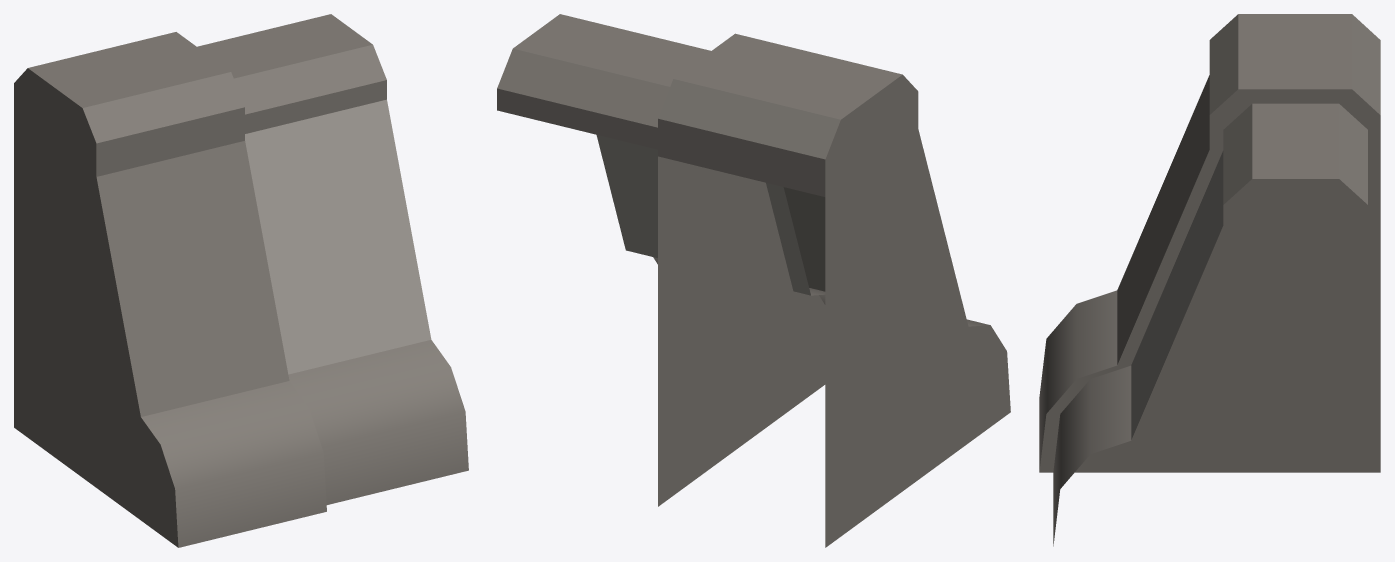
File: Base Wall 01 End 02.FBX
The picture shows the model from 3 angles, left to right: view 1: azimuth 30°, elevation 25°; view 2: azimuth 150°, elevation 25°; view 3: azimuth 270°, elevation 25°; orthographic projection. The views are drawn at different scales.
Parts seen in each view (by area): view 1: Base Wall 01 End 02; view 2: Base Wall 01 End 02; view 3: Base Wall 01 End 02.
Part boxes in pixels (box(x1,y1,x2,y2)): Base Wall 01 End 02: box(14, 14, 468, 547); Base Wall 01 End 02: box(497, 14, 1010, 547); Base Wall 01 End 02: box(1039, 14, 1380, 546).
Bounding box in the file's own units: 100 × 119 × 95.83.
Materials: 1 (1 with a texture image).
